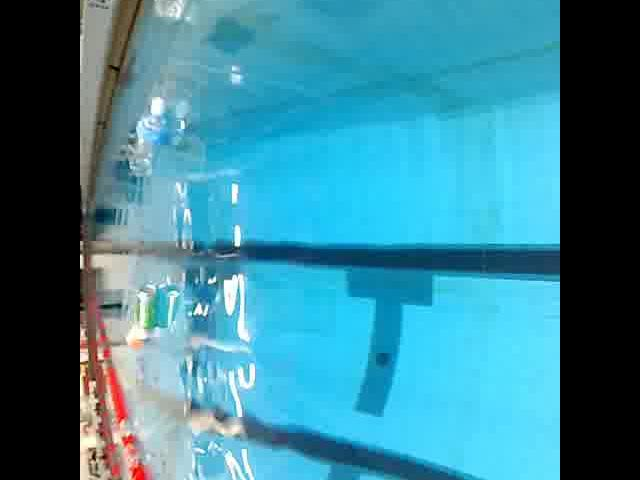Bottle: (124, 90, 174, 182), (148, 0, 196, 28), (122, 317, 152, 353)
Can: (130, 277, 164, 333)
